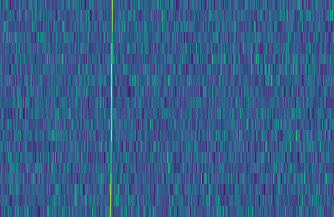signal: (103, 0, 114, 217)
